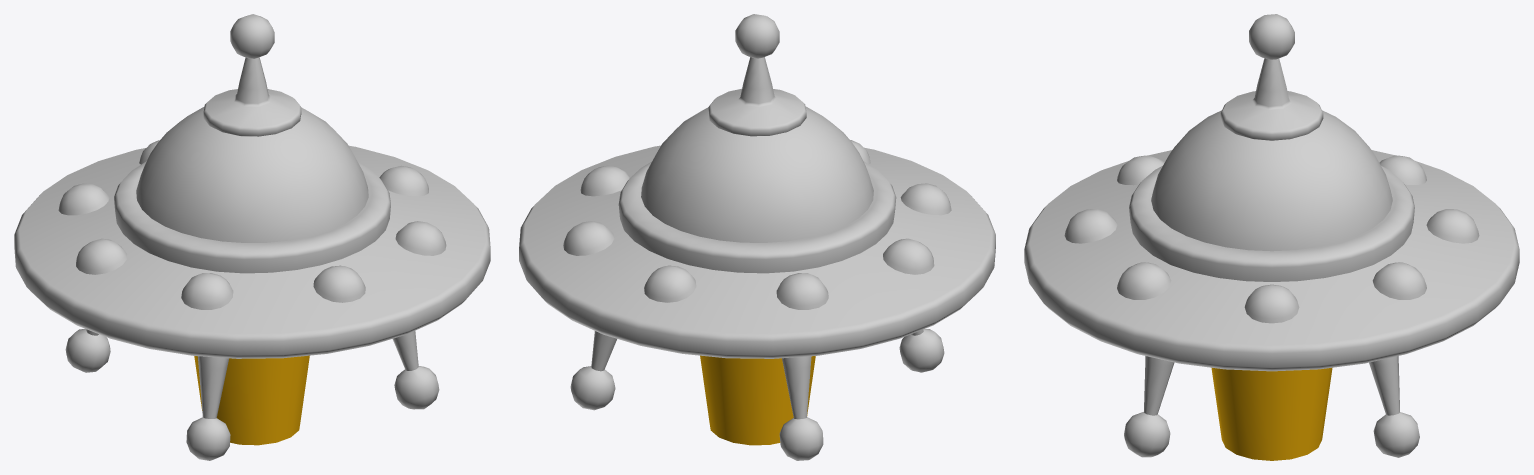
The model's file is ufo_001.fbx.
3 views of the same model, side by side, from view 1: azimuth 30°, elevation 25°; view 2: azimuth 150°, elevation 25°; view 3: azimuth 270°, elevation 25° (orthographic). The views are drawn at different scales.
Visible parts, largest first — view 1: ufo_001; view 2: ufo_001; view 3: ufo_001.
Part boxes in pixels (x1,y1,x2,y2): ufo_001: (14, 14, 490, 460); ufo_001: (519, 14, 995, 460); ufo_001: (1024, 14, 1519, 460).
Size of the model in its own units: 1232 by 1232 by 1161.
